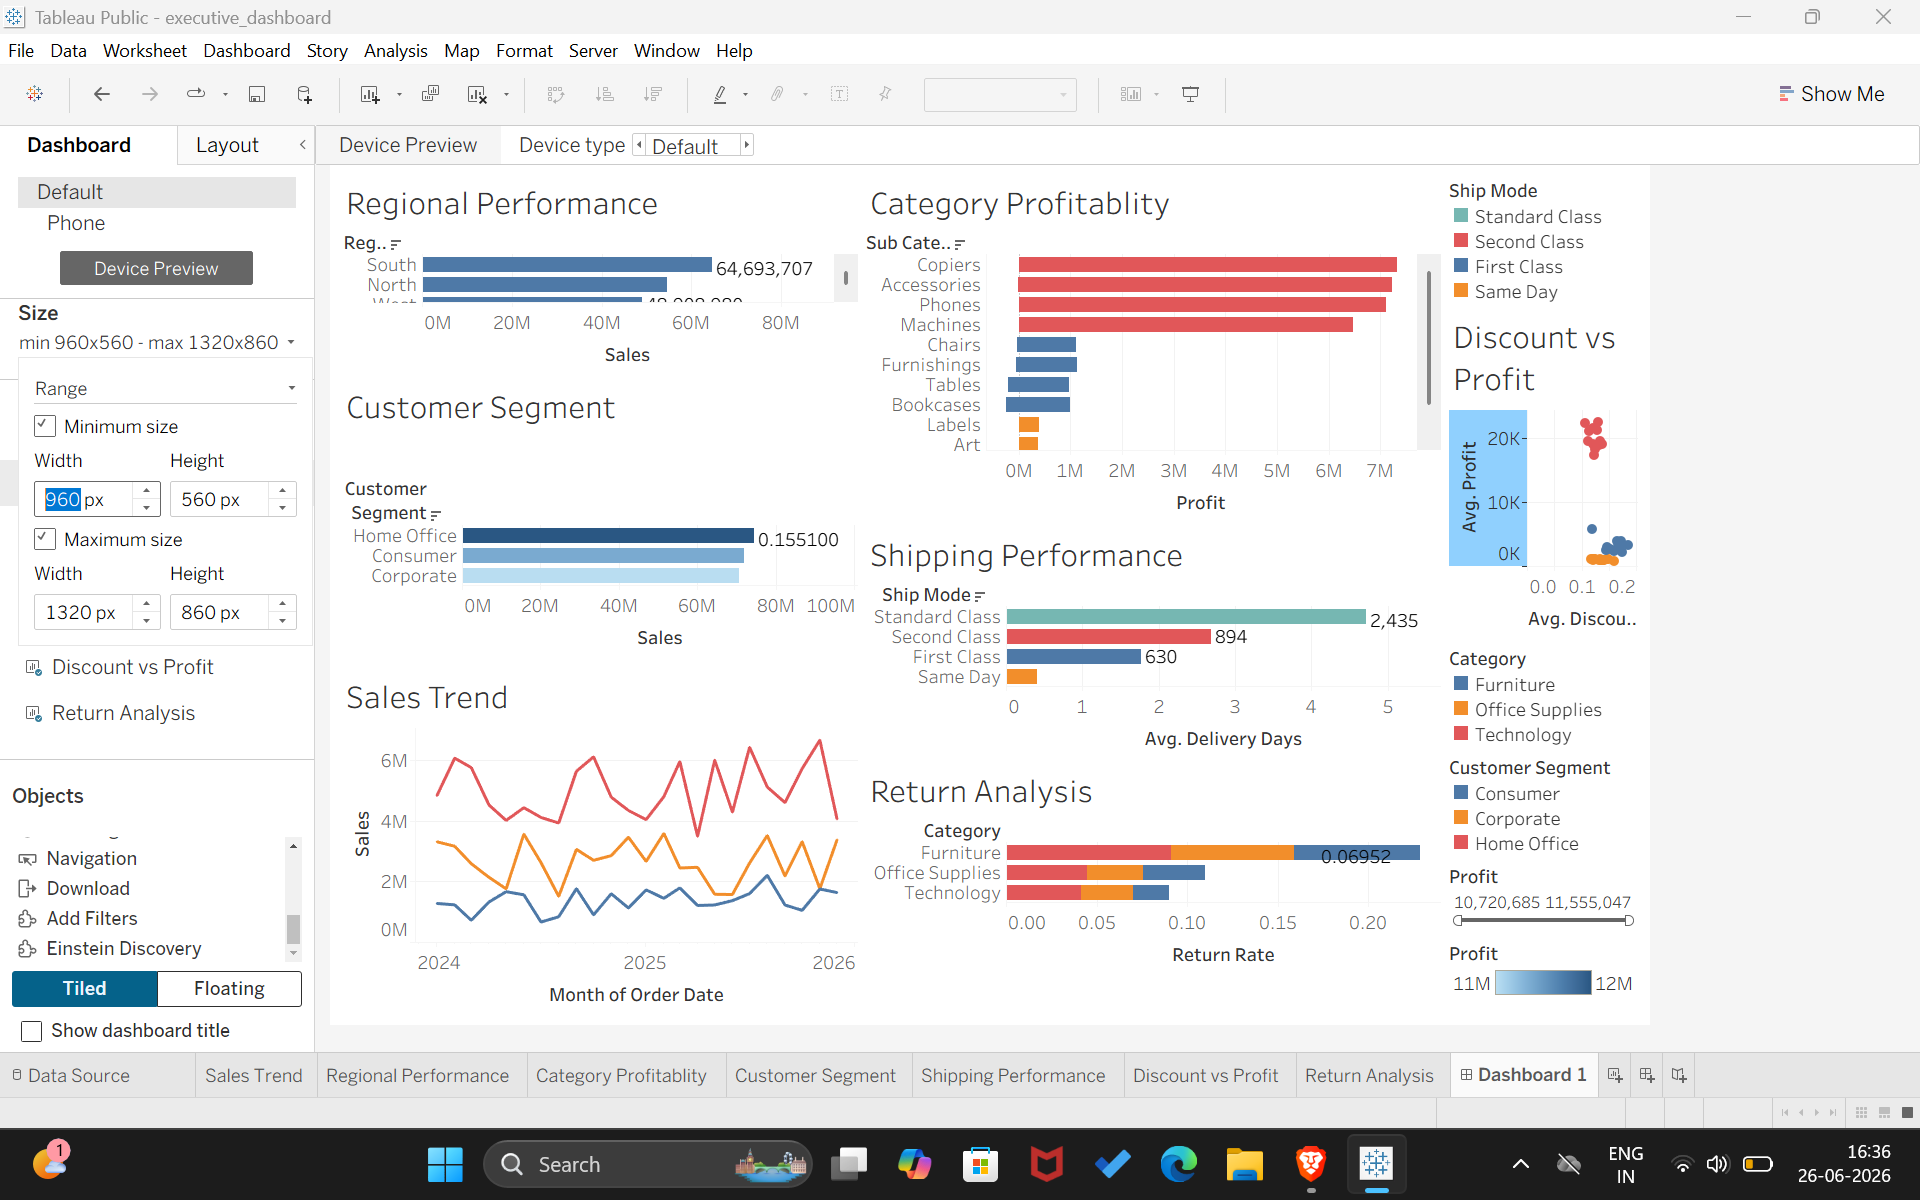

The page's visual inventory and layout, read from the dashboard file:
{"tool":"tableau","page":{"name":"Dashboard 1","canvas":[1000,1000],"units":"permille","ordinal":0},"visuals":[{"type":"worksheet","title":" KPI - Total Sales","mark":"Automatic","box":[6.1,9.3,365.2,94.2]},{"type":"worksheet","title":"KPI - Total Profit","mark":"Automatic","box":[371.2,9.3,326.5,94.2]},{"type":"worksheet","title":"KPI - Return Rate","mark":"Automatic","box":[697.7,9.3,296.2,94.2]},{"type":"worksheet","title":"Regional Performance","mark":"Bar","rows":["region"],"cols":["sales"],"box":[6.1,103.5,365.2,220.8]},{"type":"worksheet","title":"Category Profitablity","mark":"Automatic","rows":["sub_category"],"cols":["profit"],"box":[371.2,103.5,456.1,377.9]},{"type":"worksheet","title":"Discount vs Profit","mark":"Circle","rows":["profit"],"cols":["discount"],"box":[827.3,103.5,166.7,887.2]},{"type":"worksheet","title":"Customer Segment","mark":"Automatic","rows":["customer_segment"],"cols":["sales"],"box":[6.1,324.3,365.2,354.2]},{"type":"worksheet","title":"Shipping Performance","mark":"Automatic","rows":["ship_mode"],"cols":["delivery_days"],"box":[371.2,481.4,456.1,258.1]},{"type":"worksheet","title":"Sales Trend","mark":"Line","rows":["sales"],"cols":["order_date"],"box":[6.1,678.4,365.2,312.3]},{"type":"worksheet","title":"Return Analysis","mark":"Automatic","rows":["category"],"cols":["Calculation_0379623068442628"],"box":[371.2,739.5,456.1,251.2]}]}

Visuals, with their boxes on the dashboard's canvas, which has no fixed pixel size, in thousandths of its width and height (x1, y1, x2, y2). These are canvas units, not pixel positions in the 1920x1200 screenshot, which may show the page scaled, cropped or inside an application window:
" KPI - Total Sales" worksheet: box(6, 9, 371, 104)
"KPI - Total Profit" worksheet: box(371, 9, 698, 104)
"KPI - Return Rate" worksheet: box(698, 9, 994, 104)
"Regional Performance" worksheet (Bar marks): box(6, 104, 371, 324)
"Category Profitablity" worksheet: box(371, 104, 827, 481)
"Discount vs Profit" worksheet (Circle marks): box(827, 104, 994, 991)
"Customer Segment" worksheet: box(6, 324, 371, 678)
"Shipping Performance" worksheet: box(371, 481, 827, 740)
"Sales Trend" worksheet (Line marks): box(6, 678, 371, 991)
"Return Analysis" worksheet: box(371, 740, 827, 991)
